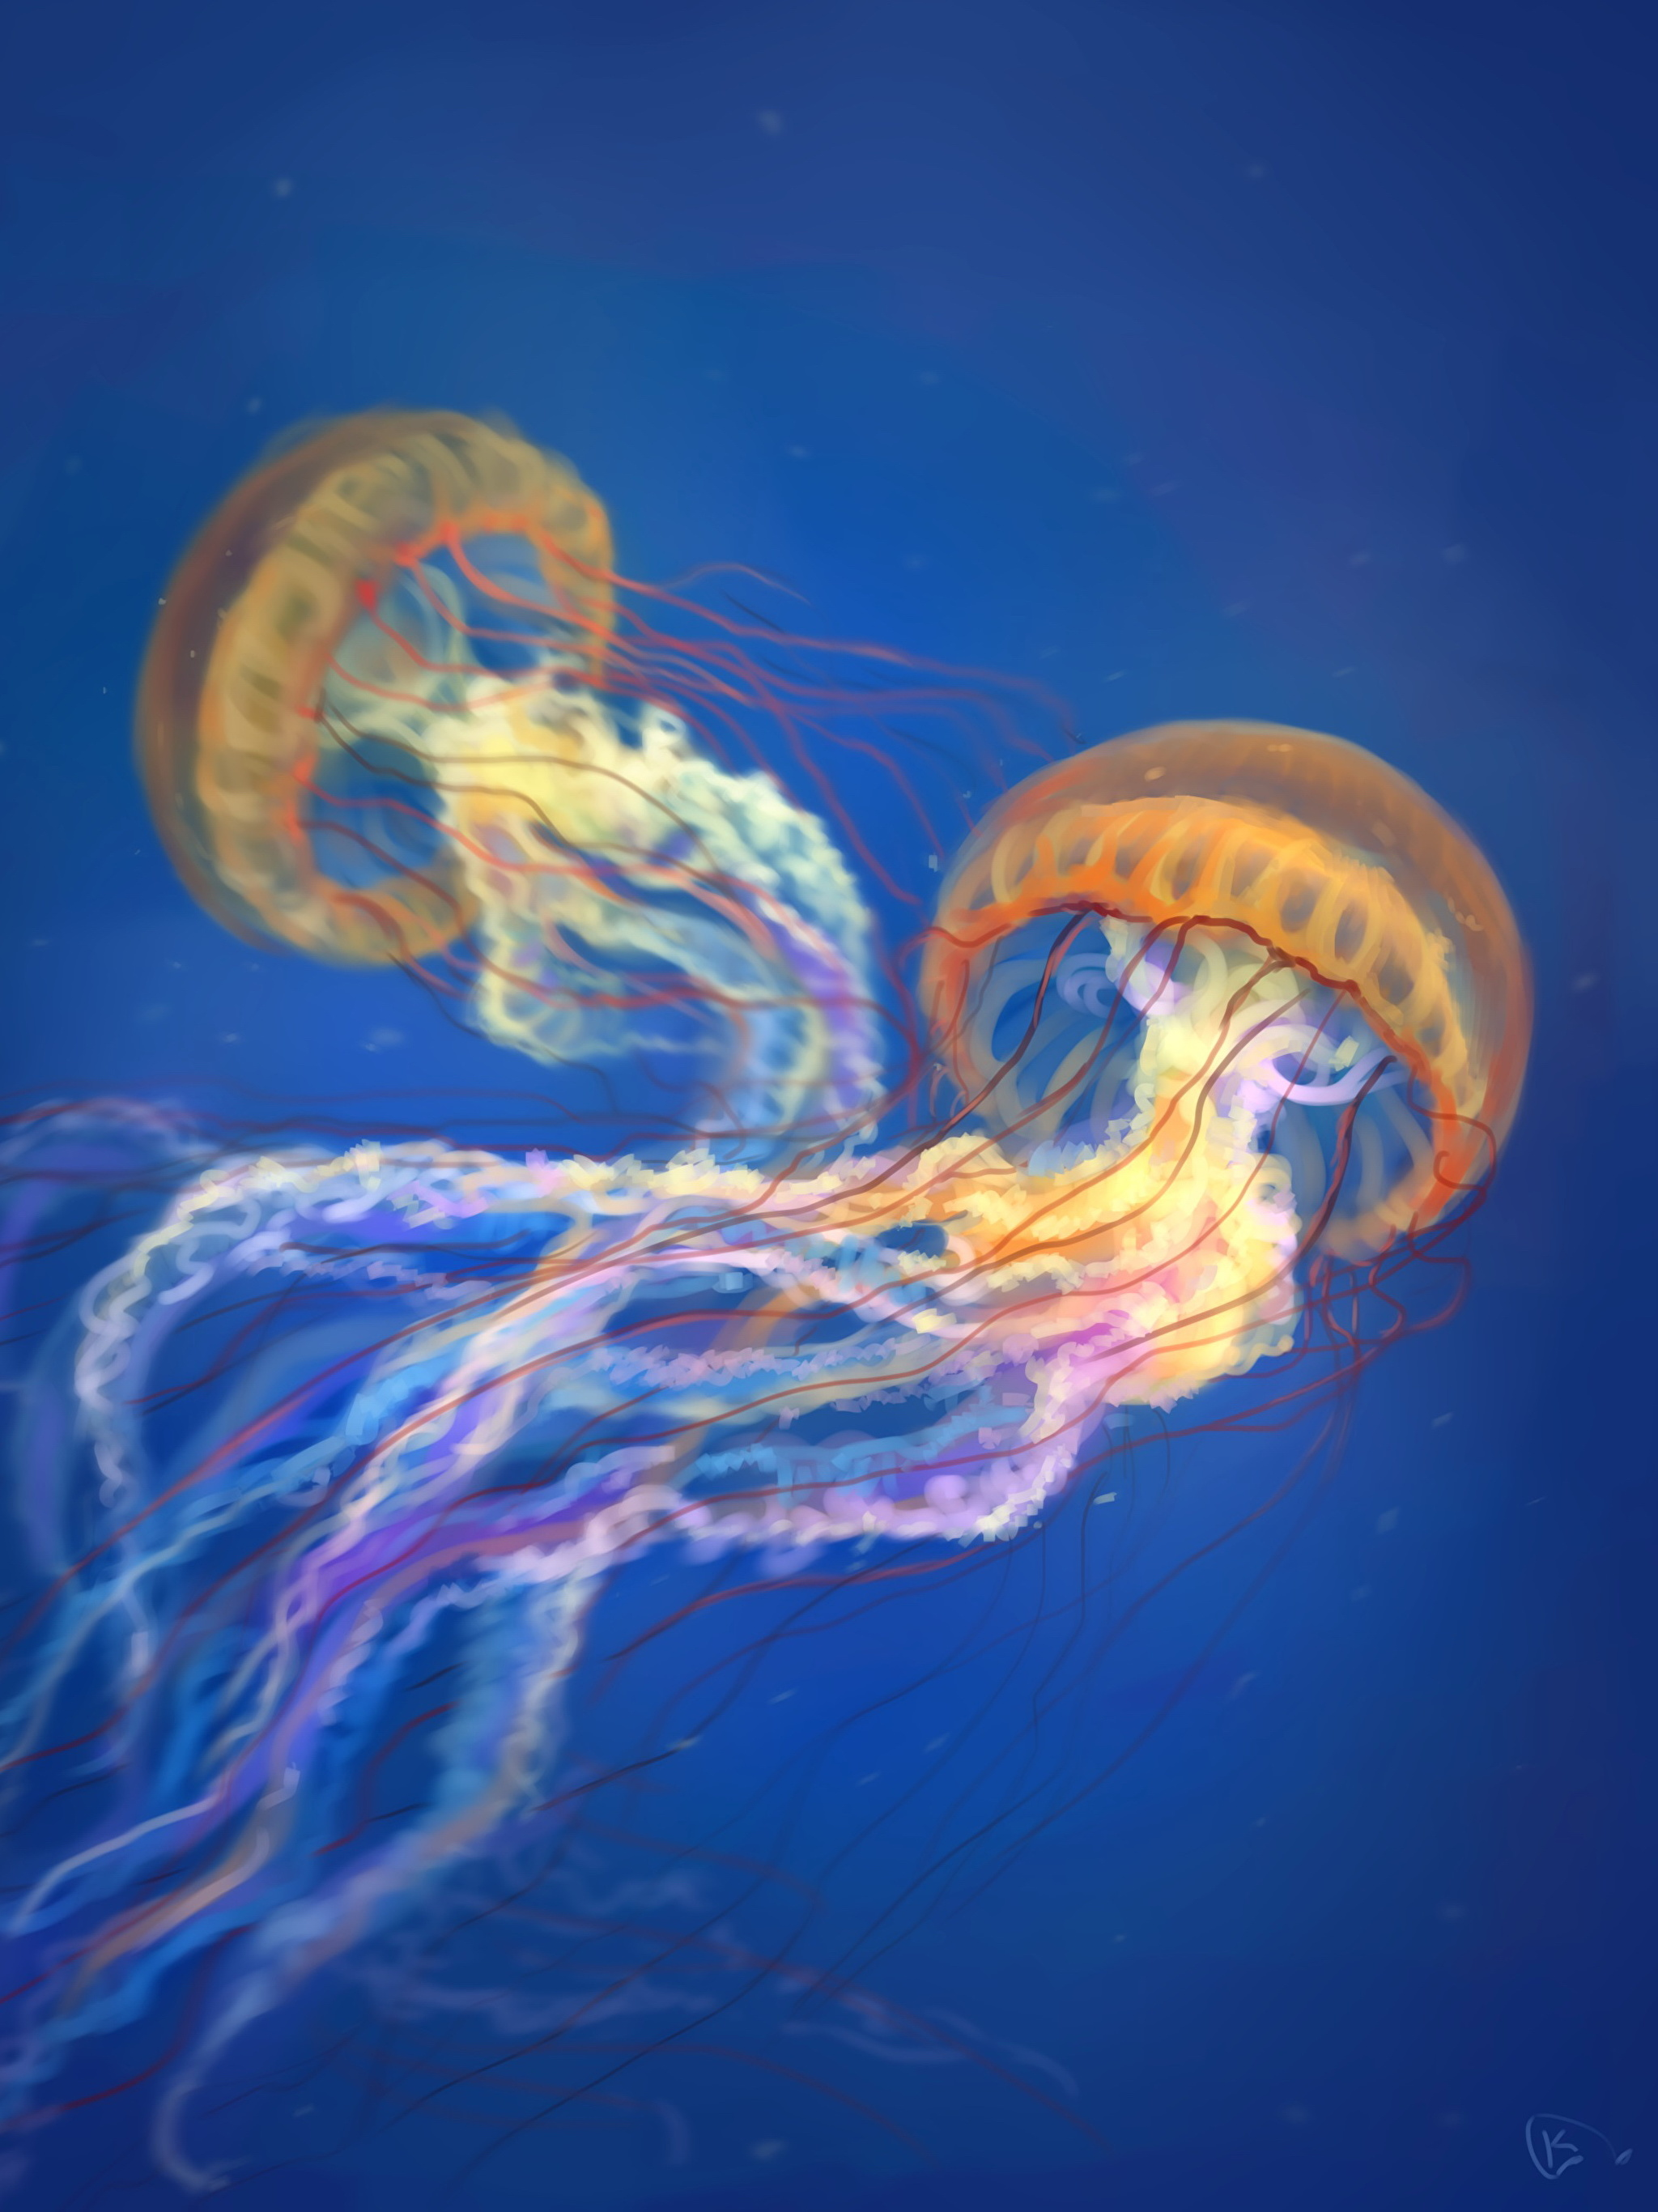jellyfish: (115, 700, 1566, 1787), (129, 408, 874, 1278)
